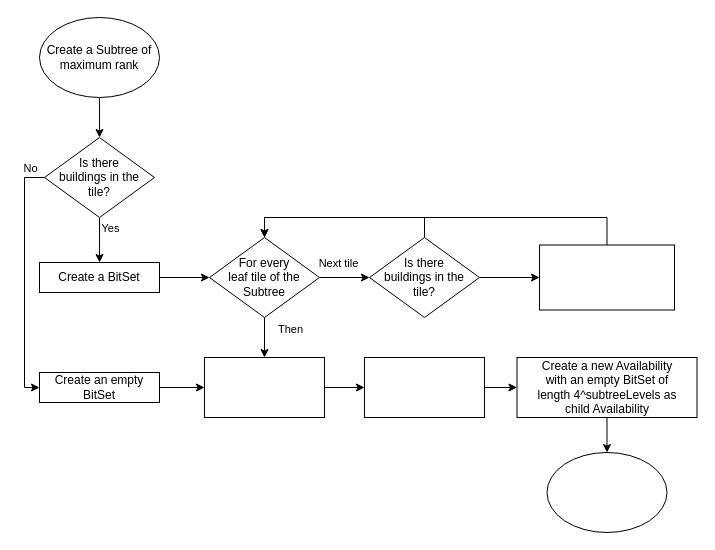
Image size: 715x550. Some labels were removed from this diagram. The shapes that lost their labels are listed below. From the top down, each one's centre as x and y in pixels, then its label:
At [606,277]: "Set the Nth bit of the BitSet to 1. N being the Morton index of the Tile".
At [264,387]: "Generate a tile Availability from the BitSet".
At [424,387]: "Generate a content Availability from the BitSet".
At [606,492]: "Return the Subtree created from the 3 Availabilities".
